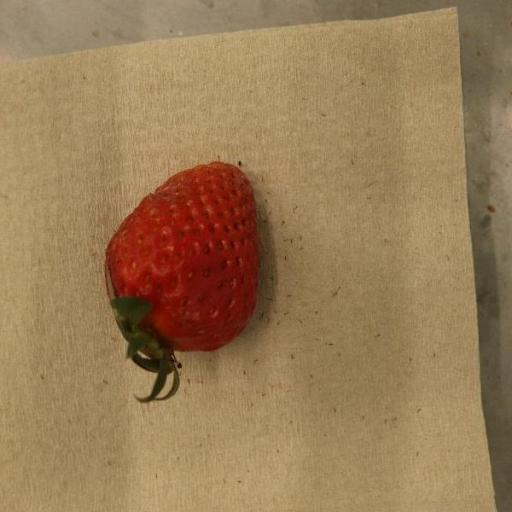Strawberry: (105, 162, 260, 403)
